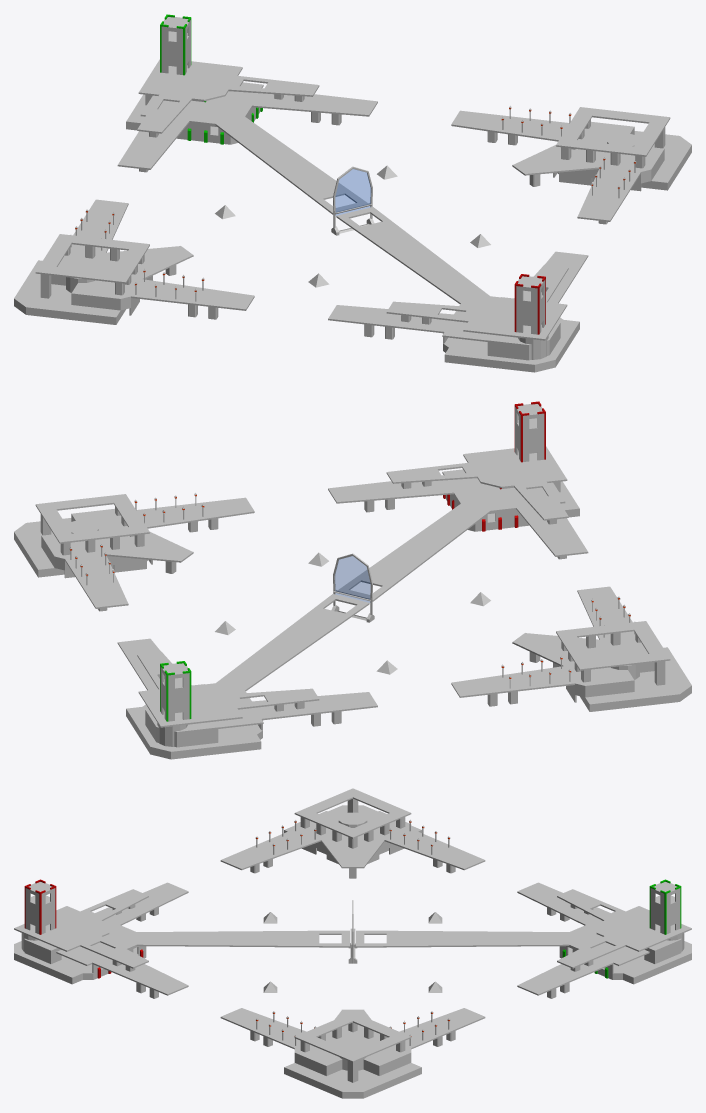
The model's file is version-3.obj.
3 renders of one model, top to bottom at view 1: azimuth 30°, elevation 25°; view 2: azimuth 150°, elevation 25°; view 3: azimuth 270°, elevation 25°, orthographic. The views are drawn at different scales.
Visible parts, largest first — view 1: side_castle_catwalk_Cube.049, red_castle_catwalk_middle_Cube.059, green_castle_catwalk_middle_Cube.057, side_castle_catwalk.001_Cube.049, green_castle_catwalk_lower_Cube.018, side_fortress_upper.001_Cube.043, green_castle_upper_floor_Cube.016, red_castle_catwalk_lower_Cube.029, side_castle_base_(ground).001_green_castle_base_(ground).003, red_castle_base_(ground)_green_castle_base_(ground).002, side_fortress_higher.001_Cube.044, side_fortress_higher_Cube.044 (+14 smaller); view 2: side_castle_catwalk_Cube.049, green_castle_catwalk_middle_Cube.057, red_castle_catwalk_middle_Cube.059, side_castle_catwalk.001_Cube.049, red_castle_catwalk_lower_Cube.029, side_fortress_upper.001_Cube.043, red_castle_upper_floor_Cube.028, green_castle_catwalk_lower_Cube.018, side_castle_base_(ground).001_green_castle_base_(ground).003, green_castle_base_(ground)_green_castle_base_(ground).001, side_fortress_higher_Cube.044, side_fortress_higher.001_Cube.044 (+14 smaller); view 3: side_castle_catwalk.001_Cube.049, green_castle_catwalk_middle_Cube.057, red_castle_catwalk_middle_Cube.059, side_castle_catwalk_Cube.049, side_fortress_upper_Cube.043, green_castle_catwalk_lower_Cube.018, red_castle_catwalk_lower_Cube.029, side_castle_base_(ground)_green_castle_base_(ground).003, green_castle_upper_floor_Cube.016, red_castle_upper_floor_Cube.028, side_fortress_higher.001_Cube.044, side_fortress_higher_Cube.044 (+12 smaller).
Part boxes in pixels (x1=…): side_castle_catwalk_Cube.049: x1=451, y1=110, x2=640, y2=221; red_castle_catwalk_middle_Cube.059: x1=336, y1=207, x2=489, y2=303; green_castle_catwalk_middle_Cube.057: x1=215, y1=117, x2=367, y2=214; side_castle_catwalk.001_Cube.049: x1=70, y1=199, x2=254, y2=310; green_castle_catwalk_lower_Cube.018: x1=117, y1=88, x2=377, y2=169; side_fortress_upper.001_Cube.043: x1=51, y1=248, x2=152, y2=310; green_castle_upper_floor_Cube.016: x1=138, y1=59, x2=242, y2=101; red_castle_catwalk_lower_Cube.029: x1=328, y1=251, x2=588, y2=333; side_castle_base_(ground).001_green_castle_base_(ground).003: x1=14, y1=260, x2=125, y2=324; red_castle_base_(ground)_green_castle_base_(ground).002: x1=443, y1=317, x2=579, y2=372; side_fortress_higher.001_Cube.044: x1=35, y1=234, x2=149, y2=283; side_fortress_higher_Cube.044: x1=556, y1=107, x2=670, y2=156; side_castle_catwalk_Cube.049: x1=65, y1=497, x2=254, y2=608; green_castle_catwalk_middle_Cube.057: x1=216, y1=594, x2=369, y2=690; red_castle_catwalk_middle_Cube.059: x1=338, y1=504, x2=490, y2=601; side_castle_catwalk.001_Cube.049: x1=451, y1=586, x2=635, y2=697; red_castle_catwalk_lower_Cube.029: x1=328, y1=475, x2=588, y2=556; side_fortress_upper.001_Cube.043: x1=553, y1=635, x2=654, y2=697; red_castle_upper_floor_Cube.028: x1=463, y1=446, x2=567, y2=488; green_castle_catwalk_lower_Cube.018: x1=117, y1=638, x2=377, y2=720; side_castle_base_(ground).001_green_castle_base_(ground).003: x1=580, y1=647, x2=691, y2=711; green_castle_base_(ground)_green_castle_base_(ground).001: x1=126, y1=704, x2=262, y2=759; side_fortress_higher_Cube.044: x1=35, y1=494, x2=149, y2=543; side_fortress_higher.001_Cube.044: x1=556, y1=621, x2=670, y2=670; side_castle_catwalk.001_Cube.049: x1=220, y1=829, x2=485, y2=870; green_castle_catwalk_middle_Cube.057: x1=356, y1=930, x2=569, y2=947; red_castle_catwalk_middle_Cube.059: x1=136, y1=930, x2=349, y2=947; side_castle_catwalk_Cube.049: x1=220, y1=1008, x2=485, y2=1049; side_fortress_upper_Cube.043: x1=294, y1=1026, x2=411, y2=1075; green_castle_catwalk_lower_Cube.018: x1=517, y1=882, x2=612, y2=995; red_castle_catwalk_lower_Cube.029: x1=93, y1=882, x2=188, y2=995; side_castle_base_(ground)_green_castle_base_(ground).003: x1=284, y1=1063, x2=421, y2=1098; green_castle_upper_floor_Cube.016: x1=596, y1=906, x2=691, y2=951; red_castle_upper_floor_Cube.028: x1=14, y1=906, x2=109, y2=951; side_fortress_higher.001_Cube.044: x1=294, y1=788, x2=411, y2=838; side_fortress_higher_Cube.044: x1=294, y1=1012, x2=411, y2=1062.
Bounding box in the file's own units: 905 × 102 × 905.
